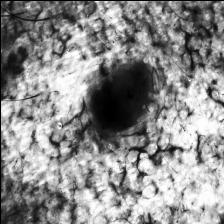Potentially Malignant Skin Tumors: (92, 66, 150, 126)
